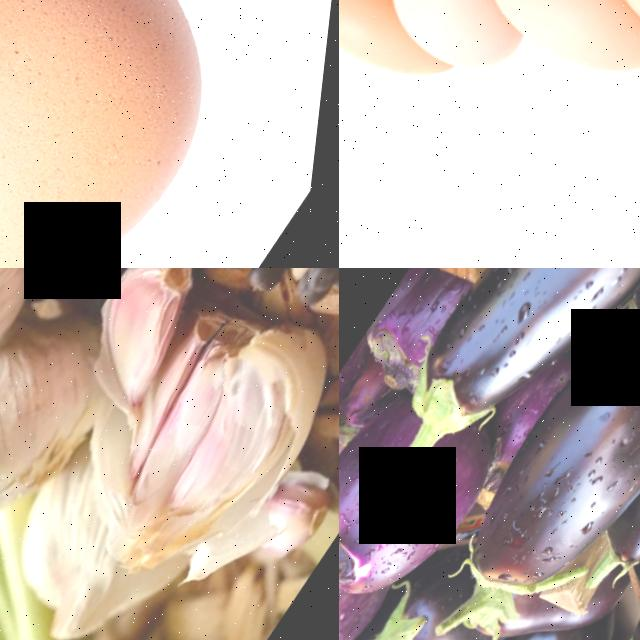egg_: (0, 0, 307, 268), (469, 0, 640, 105), (378, 0, 547, 88), (339, 0, 418, 66)
eggplant: (448, 305, 640, 624), (391, 268, 640, 464), (415, 585, 626, 640)
garlic: (92, 297, 339, 551), (0, 313, 133, 567), (66, 268, 228, 404)
